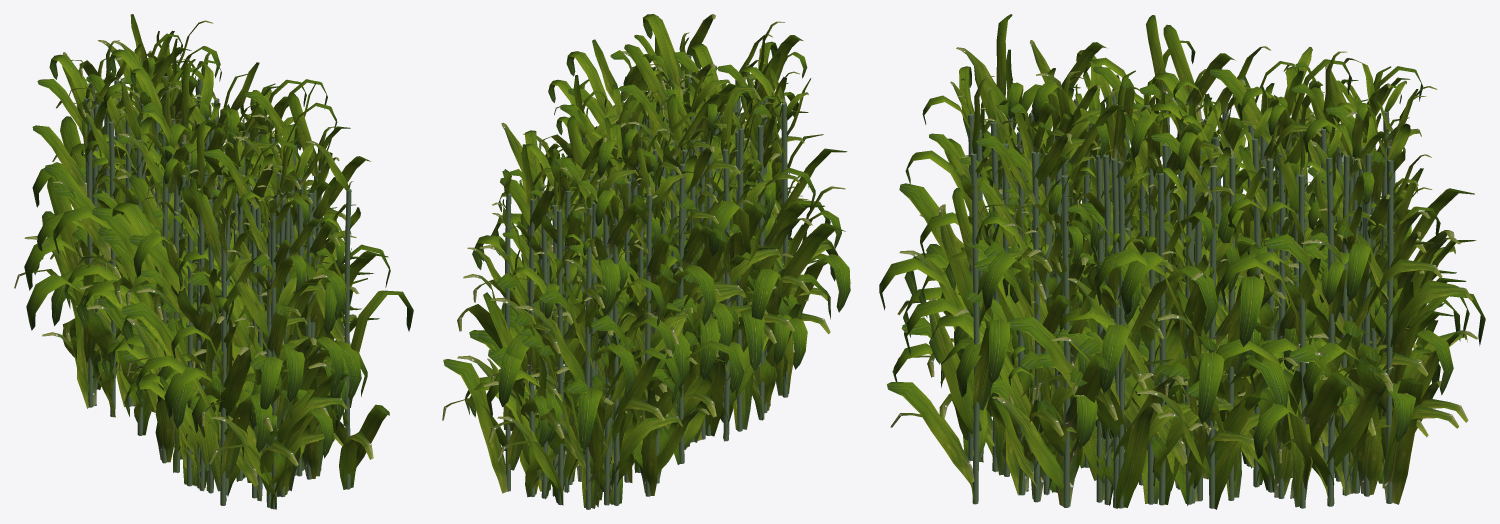
The model's file is milharal4x10_denso5.fbx.
The picture shows the model from 3 angles, left to right: view 1: azimuth 30°, elevation 25°; view 2: azimuth 150°, elevation 25°; view 3: azimuth 270°, elevation 25°; orthographic projection. The views are drawn at different scales.
Parts seen in each view (by area): view 1: Plantacao2; view 2: Plantacao2; view 3: Plantacao2.
Part boxes in pixels (x1,y1,x2,y2): Plantacao2: (14, 14, 413, 509); Plantacao2: (442, 14, 850, 509); Plantacao2: (879, 14, 1485, 509).
Size of the model in its own units: 855 by 1088 by 1416.
